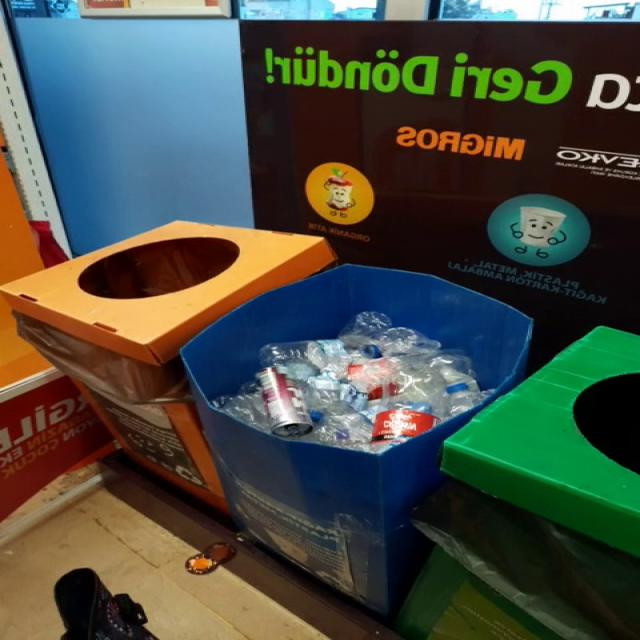metal: (256, 367, 313, 438)
